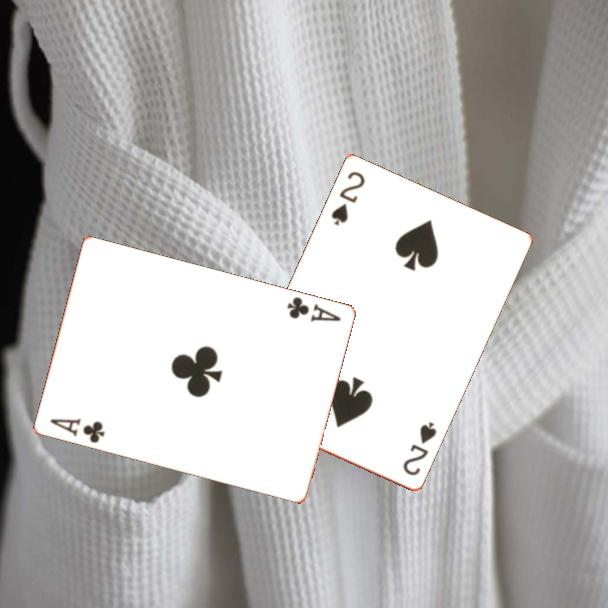c01: (283, 293, 344, 325), (46, 415, 107, 446)
s02: (399, 419, 440, 479), (328, 168, 368, 229)
